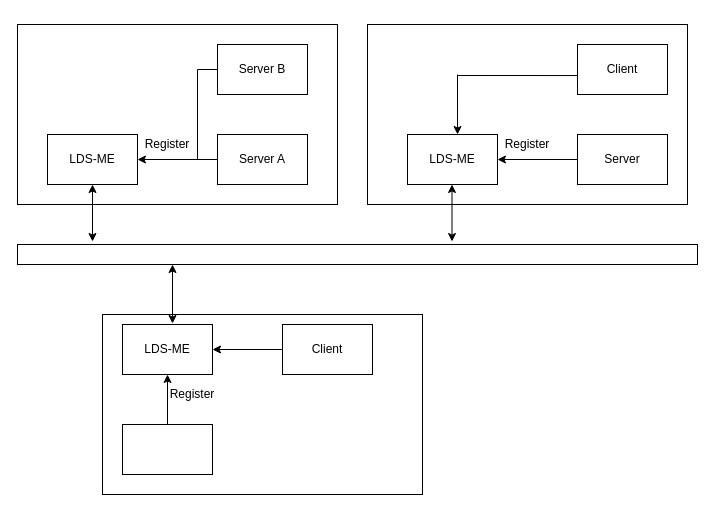
The diagram is 715 pixels wide and 512 high, and some of its shapes have lost their labels. Here are the shapes that lost their labels. From the top down, the centre of each, then its label:
the point at 357,254: mDNS
the point at 167,449: Server D
